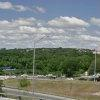Tree: (12, 38, 85, 78)
